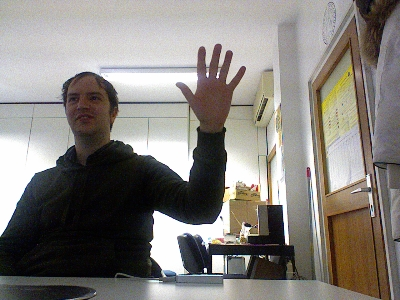布: (173, 42, 247, 126)
